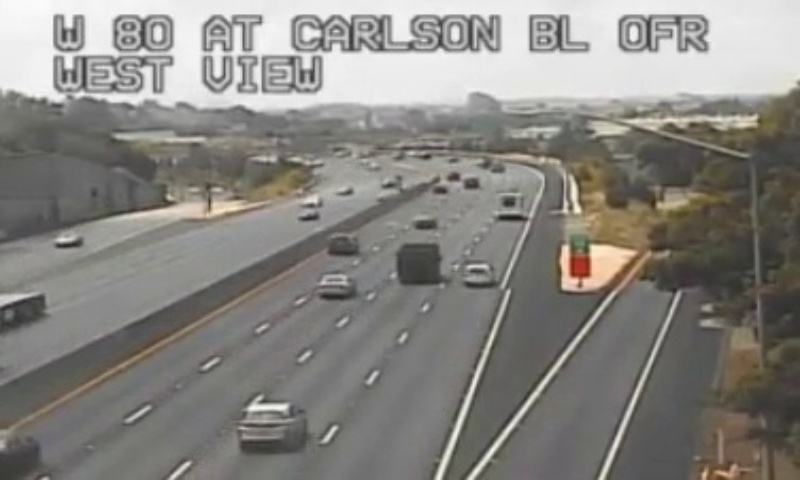car: (240, 402, 304, 445), (317, 274, 355, 297), (461, 263, 493, 286), (327, 234, 357, 254)
